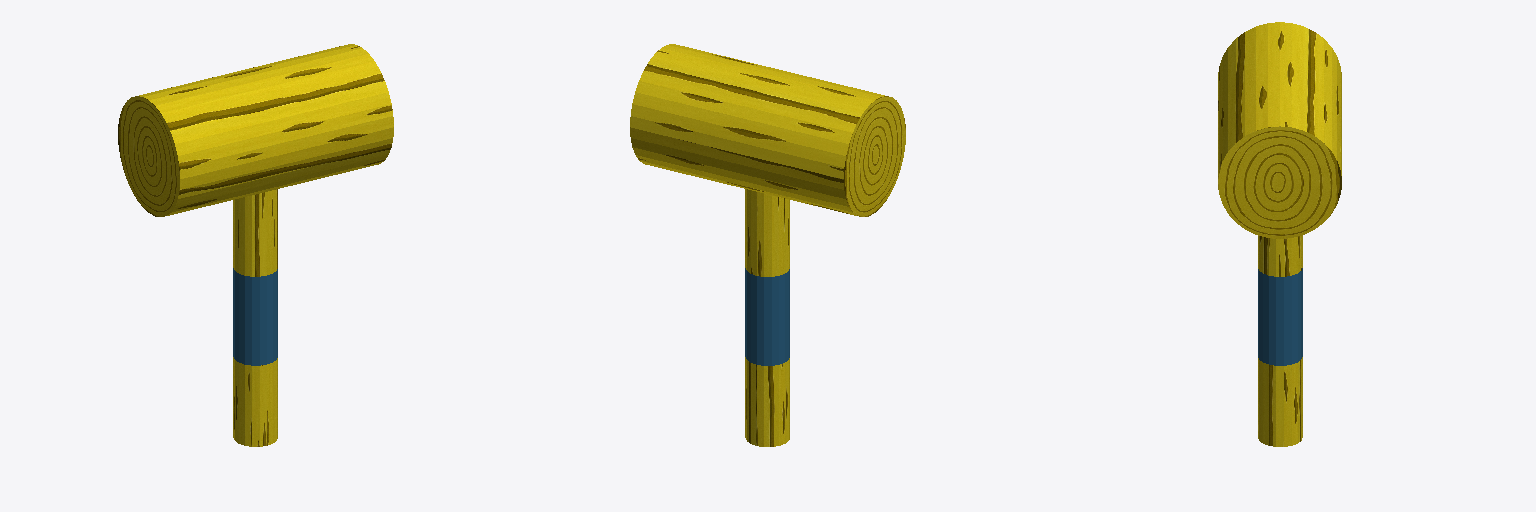
The picture shows the model from 3 angles: view 1: azimuth 30°, elevation 25°; view 2: azimuth 150°, elevation 25°; view 3: azimuth 270°, elevation 25°; orthographic projection.
Parts seen in each view (by area): view 1: mazo2; view 2: mazo2; view 3: mazo2.
Part boxes in pixels (x1,y1,x2,y2): mazo2: (118, 44, 393, 446); mazo2: (630, 44, 905, 446); mazo2: (1218, 22, 1341, 446).
Bounding box in the file's own units: 1.1 × 1.79 × 0.5566.
Materials: 2 (2 with a texture image).